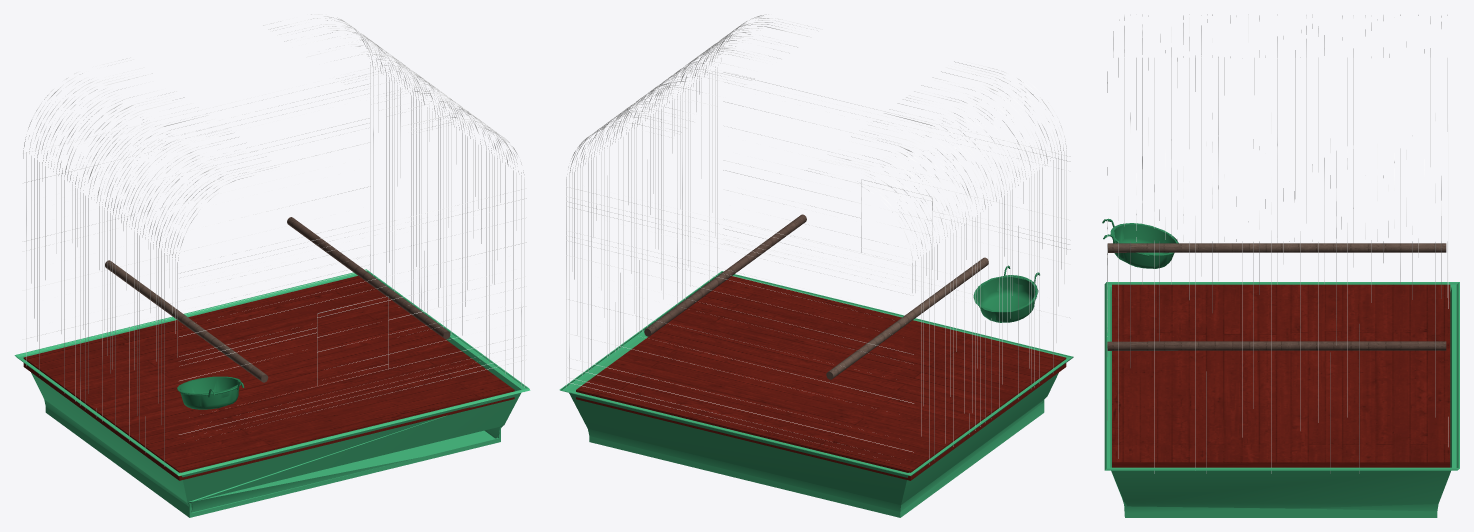
Rendered from kus_kafesi.glb.
3 renders of one model, left to right at view 1: azimuth 30°, elevation 25°; view 2: azimuth 150°, elevation 25°; view 3: azimuth 270°, elevation 25°, orthographic. The views are drawn at different scales.
Visible parts, largest first — view 1: prisma-m0, prisma-m3, prisma-m28, prisma-m39, prisma-m26, prisma-m2, prisma-m1, prisma-m4, prisma-m55, prisma-m50, prisma-m51; view 2: prisma-m0, prisma-m3, prisma-m28, prisma-m39, prisma-m26, prisma-m4, prisma-m2, prisma-m1, prisma-m55, prisma-m50, prisma-m51; view 3: prisma-m0, prisma-m3, prisma-m39, prisma-m28, prisma-m2, prisma-m1, prisma-m4.
Boxes of the visible parts, x1=… form: prisma-m0: x1=23, y1=276, x2=514, y2=480; prisma-m3: x1=14, y1=269, x2=530, y2=517; prisma-m28: x1=23, y1=57, x2=279, y2=466; prisma-m39: x1=263, y1=14, x2=524, y2=387; prisma-m26: x1=22, y1=74, x2=369, y2=339; prisma-m2: x1=287, y1=217, x2=450, y2=339; prisma-m1: x1=105, y1=260, x2=268, y2=382; prisma-m4: x1=177, y1=376, x2=244, y2=409; prisma-m55: x1=179, y1=188, x2=526, y2=336; prisma-m50: x1=179, y1=276, x2=526, y2=380; prisma-m51: x1=179, y1=335, x2=526, y2=434; prisma-m0: x1=576, y1=276, x2=1066, y2=480; prisma-m3: x1=559, y1=271, x2=1073, y2=517; prisma-m28: x1=805, y1=61, x2=1066, y2=464; prisma-m39: x1=566, y1=14, x2=822, y2=387; prisma-m26: x1=567, y1=187, x2=913, y2=452; prisma-m4: x1=973, y1=265, x2=1039, y2=322; prisma-m2: x1=644, y1=214, x2=806, y2=336; prisma-m1: x1=826, y1=257, x2=988, y2=379; prisma-m55: x1=723, y1=72, x2=1070, y2=220; prisma-m50: x1=723, y1=159, x2=1070, y2=264; prisma-m51: x1=723, y1=218, x2=1070, y2=318; prisma-m0: x1=1112, y1=284, x2=1450, y2=467; prisma-m3: x1=1104, y1=282, x2=1459, y2=517; prisma-m39: x1=1118, y1=112, x2=1447, y2=473; prisma-m28: x1=1113, y1=14, x2=1447, y2=284; prisma-m2: x1=1107, y1=341, x2=1446, y2=350; prisma-m1: x1=1107, y1=243, x2=1446, y2=252; prisma-m4: x1=1102, y1=218, x2=1178, y2=268.
Size of what is drawn, in the model's own units: 1.13 by 1.01 by 0.9156.
Materials: 6 (3 with a texture image).
